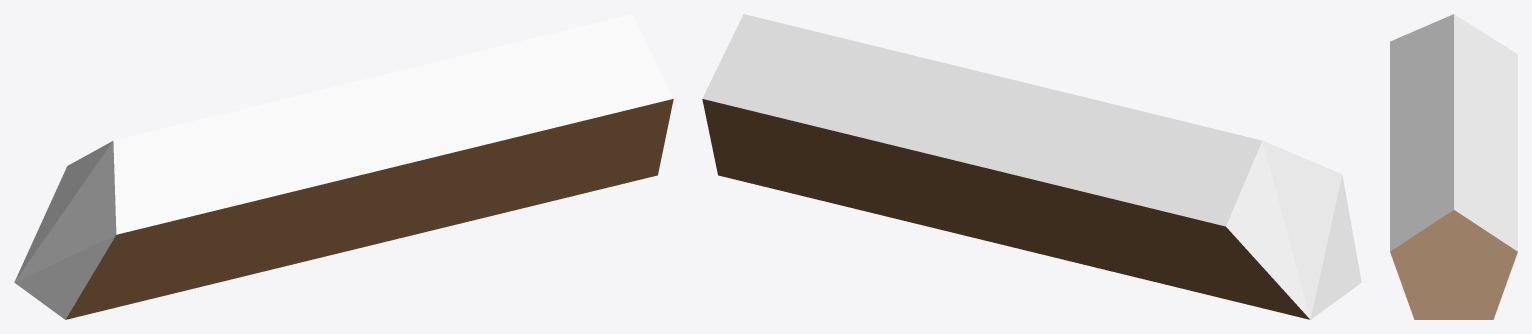
Rendered from Pine_Firewood_Snow_01_LOD.fbx.
3 renders of one model, left to right at view 1: azimuth 30°, elevation 25°; view 2: azimuth 150°, elevation 25°; view 3: azimuth 270°, elevation 25°, orthographic. The views are drawn at different scales.
Parts seen in each view (by area): view 1: Pine_Firewood_Snow_01_LOD0; view 2: Pine_Firewood_Snow_01_LOD0; view 3: Pine_Firewood_Snow_01_LOD0.
Boxes of the visible parts, bbox=[...] form: Pine_Firewood_Snow_01_LOD0: bbox=[14, 14, 673, 319]; Pine_Firewood_Snow_01_LOD0: bbox=[702, 14, 1361, 319]; Pine_Firewood_Snow_01_LOD0: bbox=[1390, 14, 1517, 319].
Size of what is drawn, in the model's own units: 54.57 by 12.56 by 13.2.
